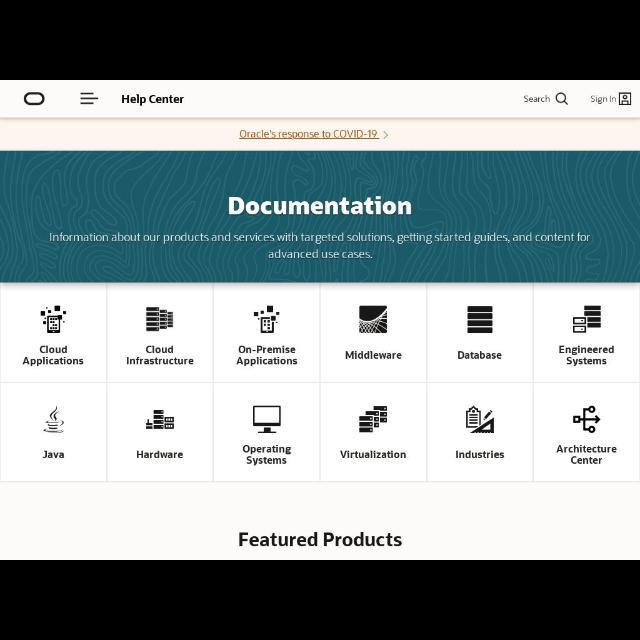icon: (24, 92, 44, 105), (81, 92, 99, 105), (556, 92, 568, 106), (620, 93, 630, 105), (382, 131, 388, 139)
image: (252, 404, 282, 434), (570, 407, 602, 435), (466, 407, 494, 438), (40, 304, 68, 334), (144, 306, 174, 334), (253, 304, 281, 334), (574, 306, 602, 334), (358, 407, 388, 433), (359, 306, 387, 332), (146, 411, 174, 434), (468, 306, 492, 332), (46, 408, 64, 434)
text: (48, 232, 590, 244), (228, 196, 412, 218), (236, 532, 404, 552), (239, 129, 377, 139), (556, 444, 618, 466), (126, 346, 194, 366), (558, 345, 616, 367), (23, 346, 85, 366), (238, 345, 298, 365), (242, 444, 292, 466), (268, 250, 372, 260), (338, 451, 408, 462), (122, 94, 184, 106), (346, 350, 404, 360), (454, 450, 504, 460), (458, 350, 502, 360), (136, 452, 184, 458), (524, 95, 550, 104), (44, 450, 66, 460), (592, 96, 616, 104)
toolbar: (1, 82, 639, 118)
